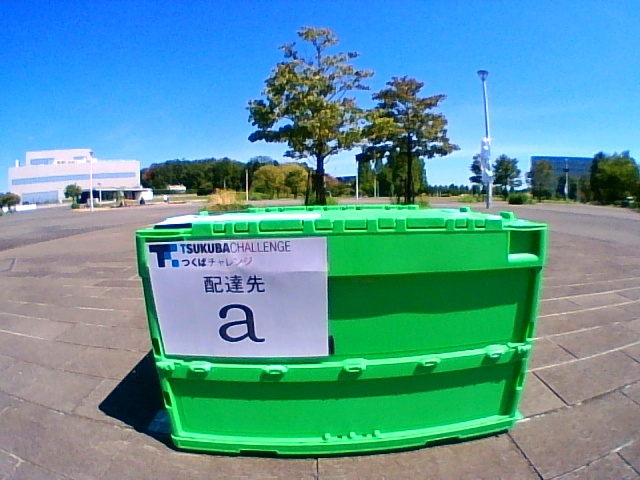green_box: (136, 204, 548, 454)
tag_a: (167, 248, 323, 354)
